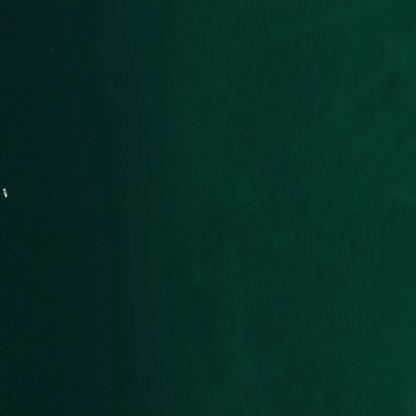ship: (0, 180, 13, 202)
